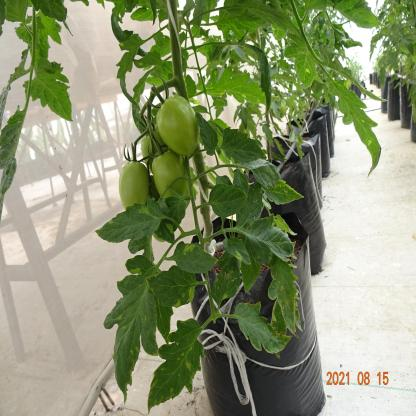T_F_R: (157, 96, 201, 157), (153, 152, 187, 196), (119, 162, 150, 208)
T_L_R: (105, 275, 159, 401), (149, 320, 205, 411), (99, 199, 168, 244), (234, 303, 290, 354), (269, 256, 302, 336), (147, 266, 202, 309), (168, 243, 216, 274), (212, 258, 242, 307)
